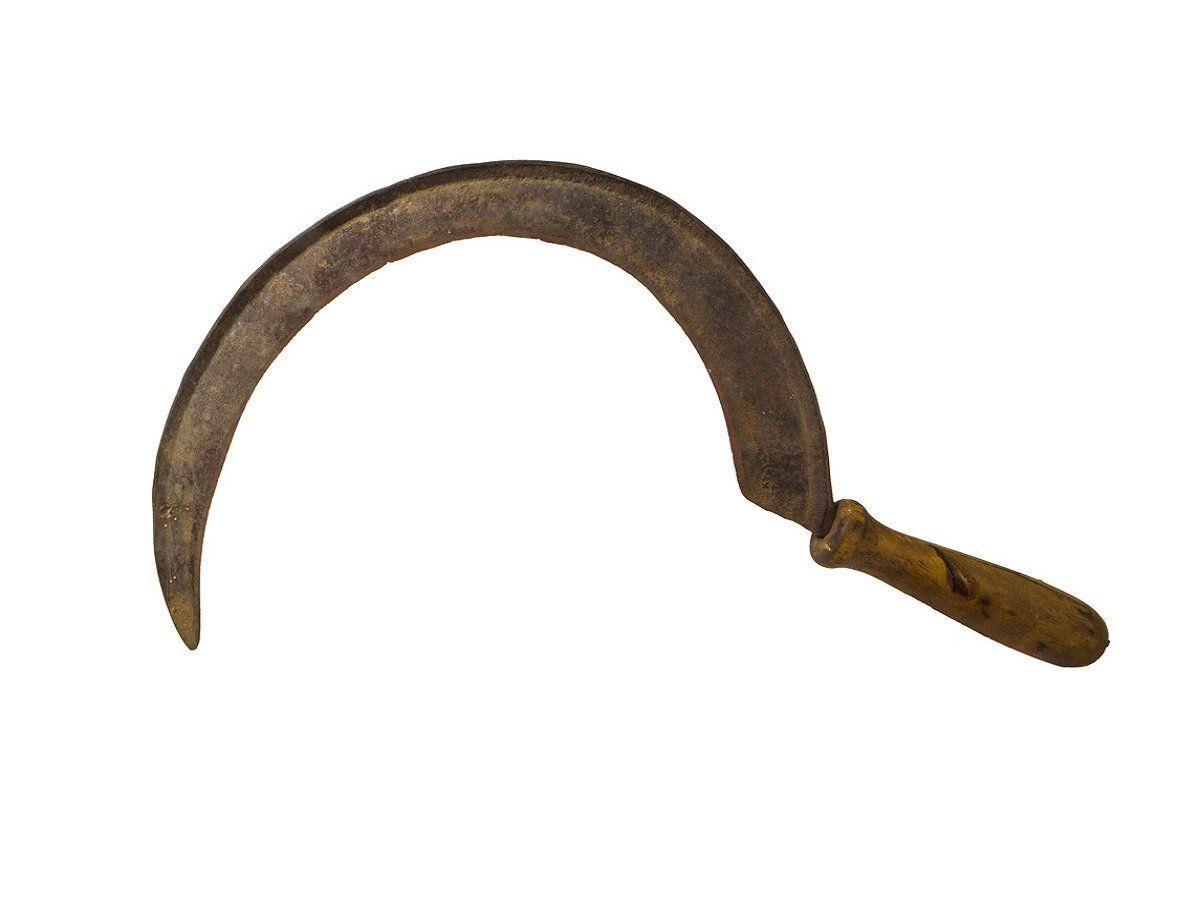foice: (149, 150, 1112, 681)
